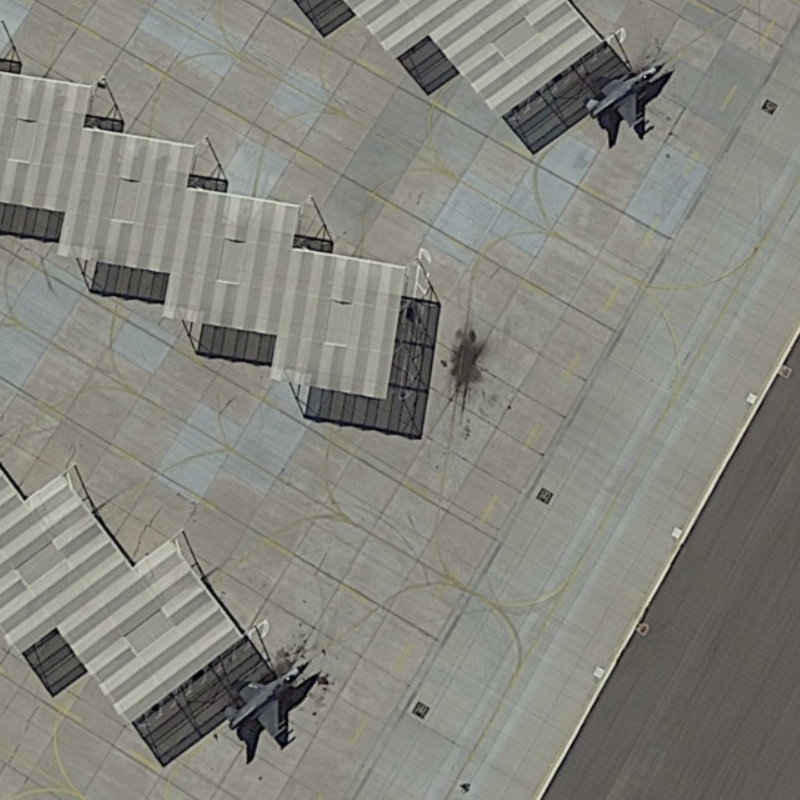A5: (215, 655, 313, 743), (576, 54, 668, 137)
